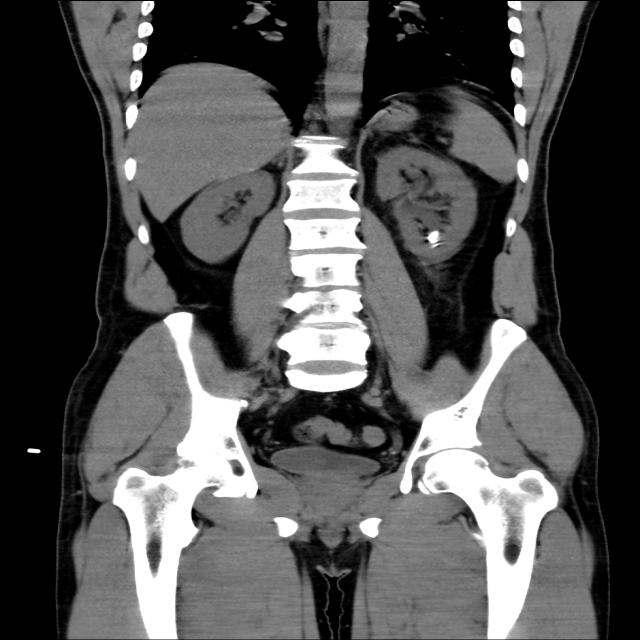kidneystone: (427, 230, 441, 247)
